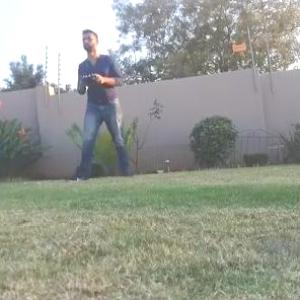follow: (63, 21, 136, 188)
